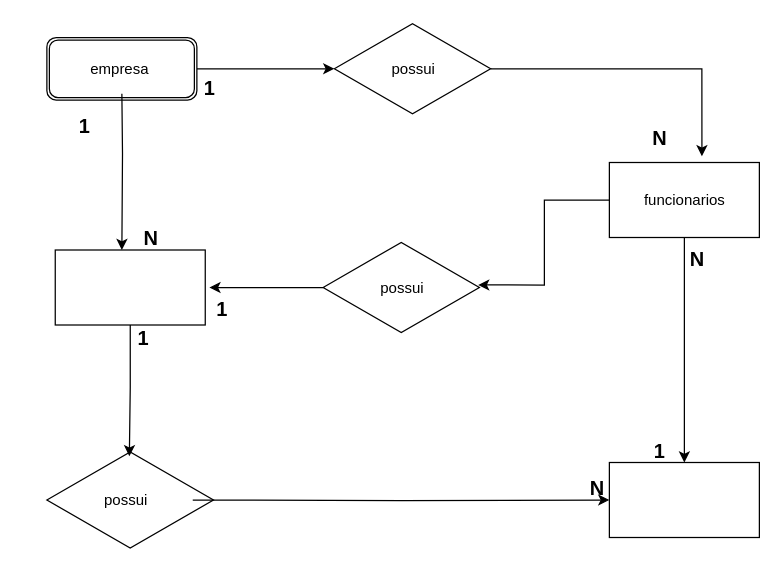
Image size: 781x573. Some labels were removed from this diagram. The shapes that lost their labels are listed below. From the top down, each one's centre as x and y in pixels, then its label:
the point at 129,287: cargos
the point at 683,499: salario
